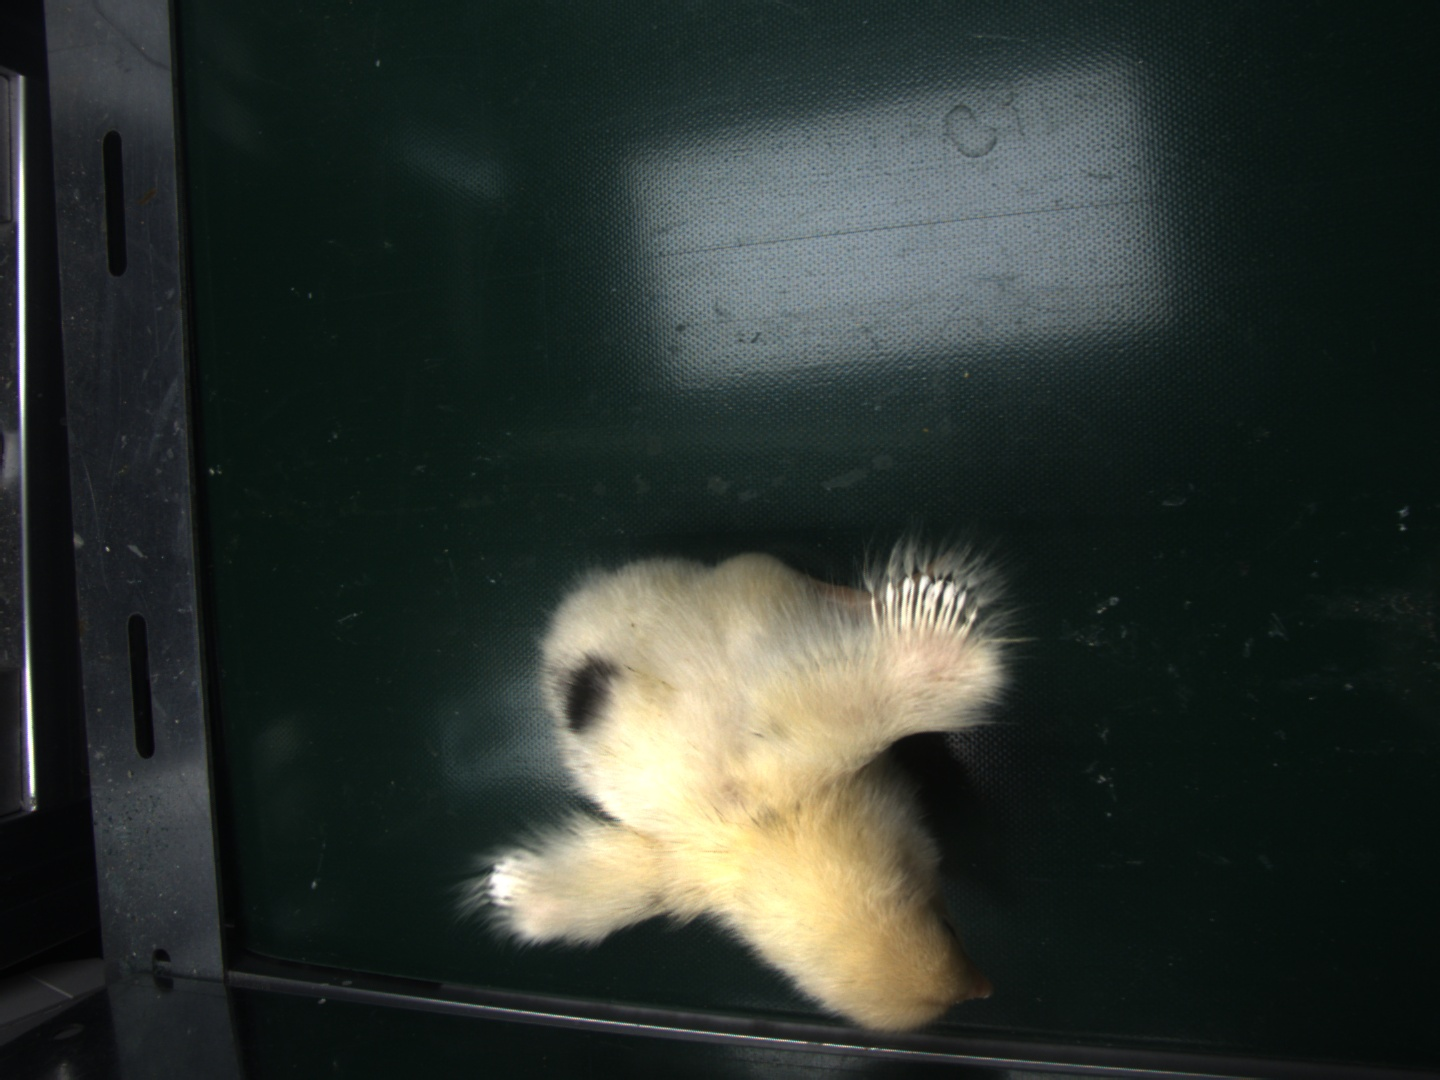male: (874, 569, 980, 639)
